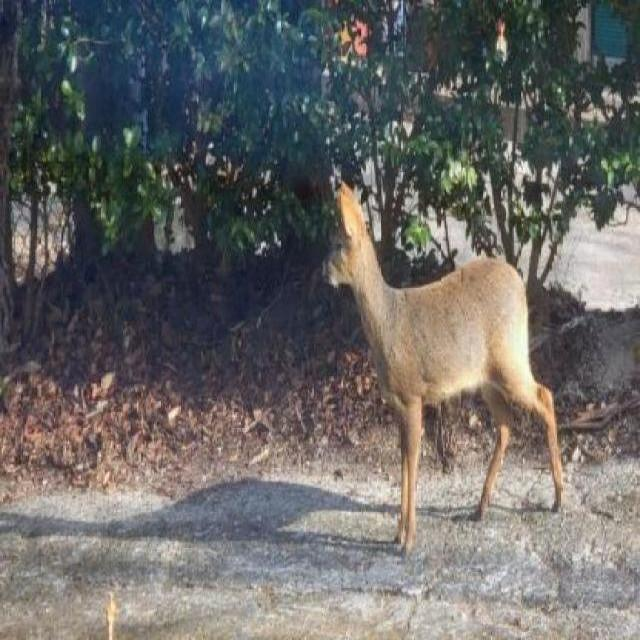deer: (316, 180, 576, 563)
